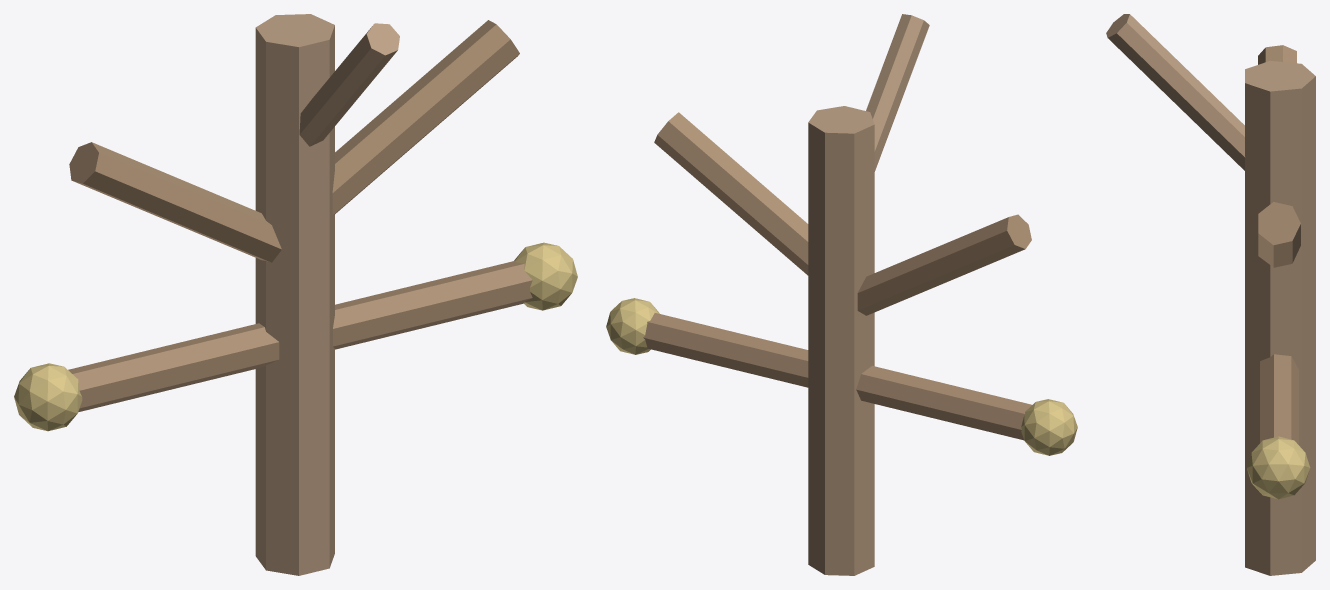
Rendered from crossing_twigs.glb.
3 views of the same model, side by side, from view 1: azimuth 30°, elevation 25°; view 2: azimuth 150°, elevation 25°; view 3: azimuth 270°, elevation 25° (orthographic). The views are drawn at different scales.
Visible parts, largest first — view 1: Upright, Horizontal, Branch_R, Branch_L, Branch_Back, Socket_A_socket, Socket_B_socket; view 2: Upright, Horizontal, Branch_R, Branch_L, Branch_Back, Socket_A_socket, Socket_B_socket; view 3: Upright, Branch_Back, Horizontal, Socket_B_socket, Branch_R, Branch_L.
Part boxes in pixels (x1,y1,x2,y2): Upright: [255, 14, 334, 575]; Horizontal: [68, 261, 532, 412]; Branch_R: [332, 20, 519, 215]; Branch_L: [69, 142, 281, 262]; Branch_Back: [299, 23, 399, 146]; Socket_A_socket: [14, 363, 82, 431]; Socket_B_socket: [514, 242, 577, 310]; Upright: [808, 106, 874, 575]; Horizontal: [643, 313, 1031, 440]; Branch_R: [654, 112, 808, 275]; Branch_L: [857, 214, 1031, 315]; Branch_Back: [866, 14, 929, 171]; Socket_A_socket: [1021, 399, 1077, 455]; Socket_B_socket: [606, 298, 659, 354]; Upright: [1245, 60, 1315, 575]; Branch_Back: [1106, 14, 1245, 170]; Horizontal: [1260, 354, 1298, 444]; Socket_B_socket: [1247, 436, 1310, 499]; Branch_R: [1258, 202, 1300, 267]; Branch_L: [1258, 45, 1296, 64].
Size of the model in its own units: 1.57 by 1.61 by 0.5614.
